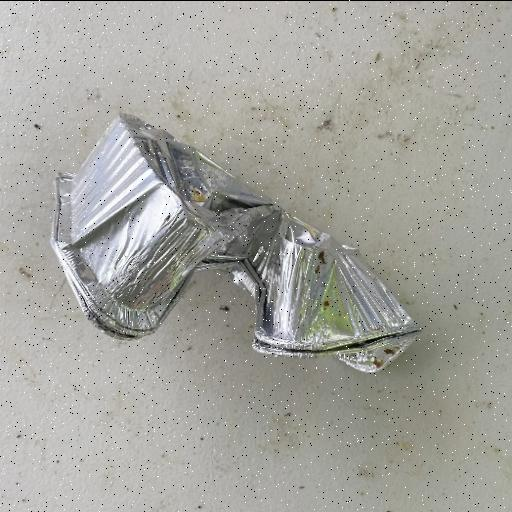Metal: (48, 110, 422, 374)
